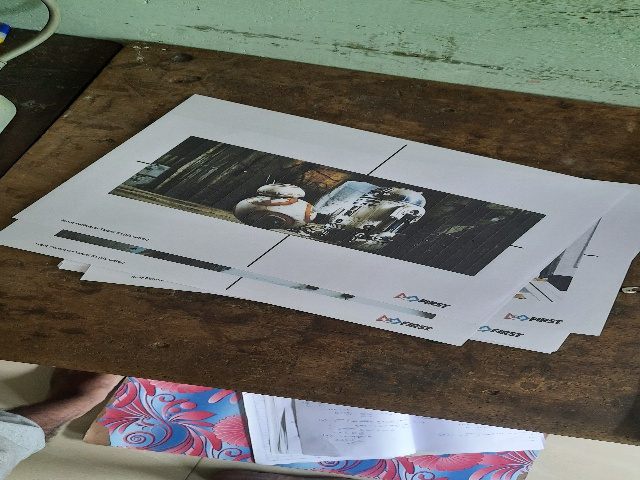fpt2: (100, 116, 561, 307)
